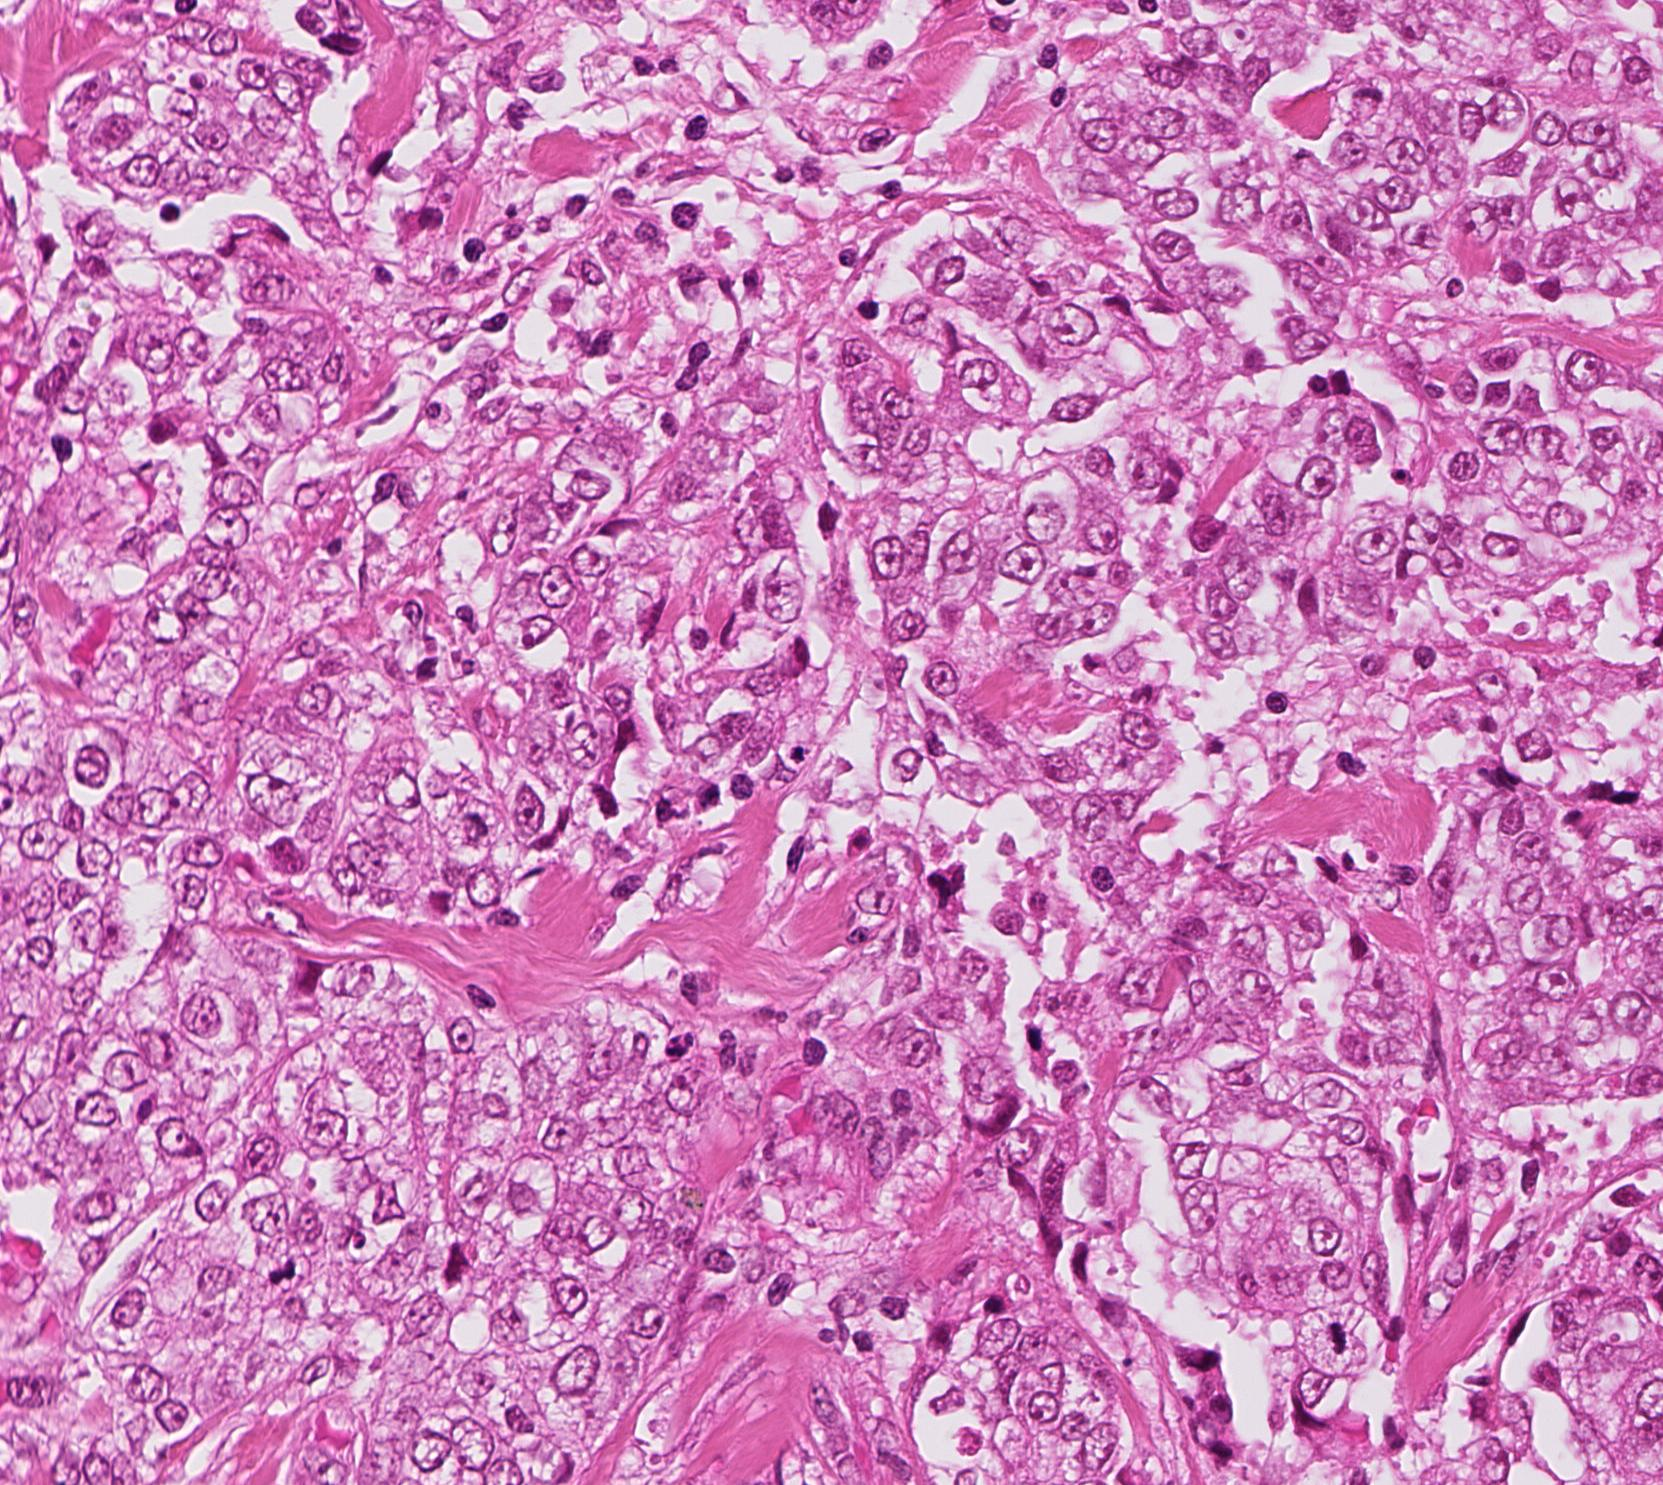mitosis: (1307, 1299, 1368, 1359)
